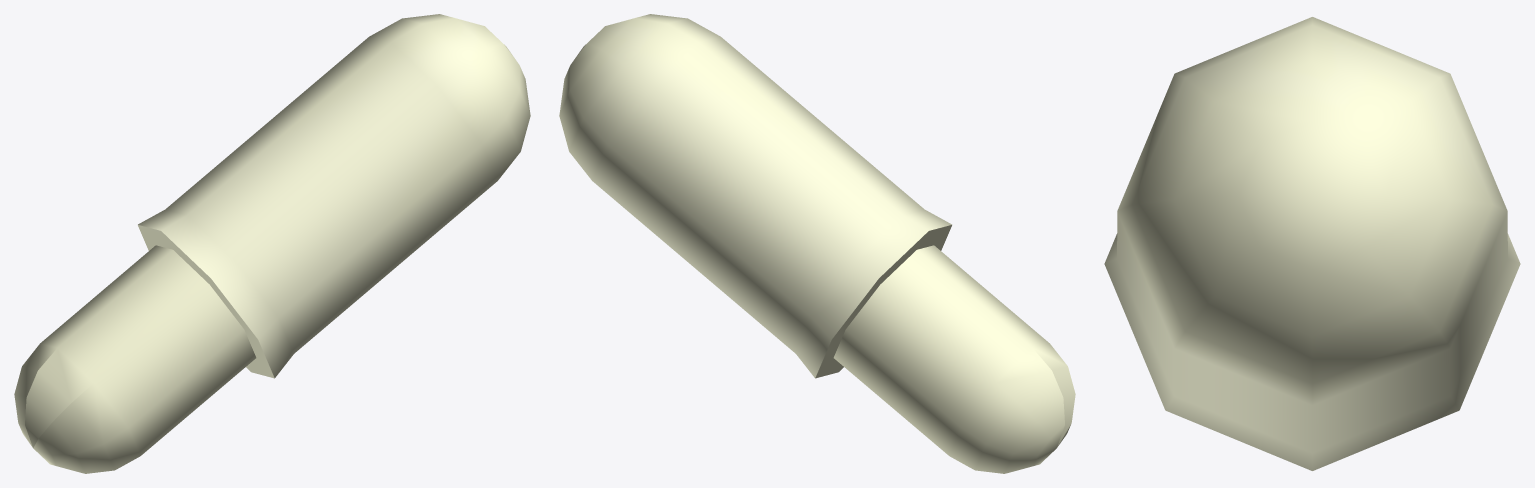
Rendered from WeaponArm.fbx.
3 views of the same model, side by side, from view 1: azimuth 30°, elevation 25°; view 2: azimuth 150°, elevation 25°; view 3: azimuth 270°, elevation 25° (orthographic). The views are drawn at different scales.
Visible parts, largest first — view 1: WeaponArm; view 2: WeaponArm; view 3: WeaponArm.
Boxes of the visible parts, bbox=[...] form: WeaponArm: bbox=[14, 14, 530, 473]; WeaponArm: bbox=[559, 14, 1075, 473]; WeaponArm: bbox=[1104, 17, 1520, 470].
Size of the model in its own units: 18.64 by 13.15 by 6.82.
